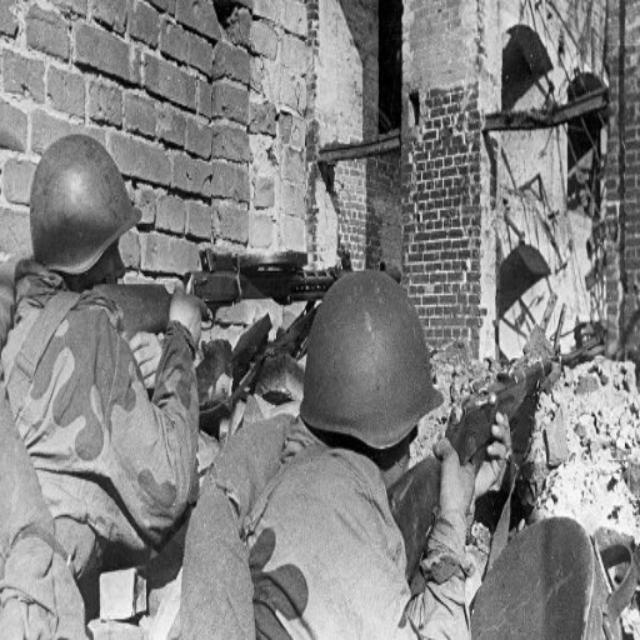other: (0, 139, 208, 539), (203, 290, 437, 640)
